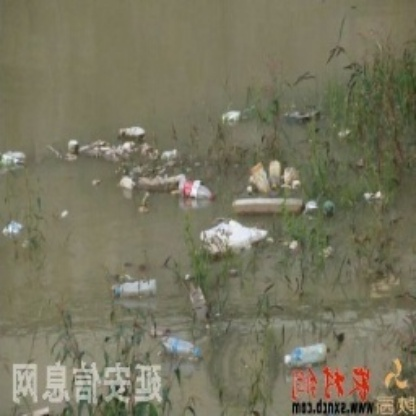bottle: (112, 275, 163, 302), (281, 340, 326, 367), (174, 175, 217, 203)
plastic-garbage: (198, 216, 268, 260)
